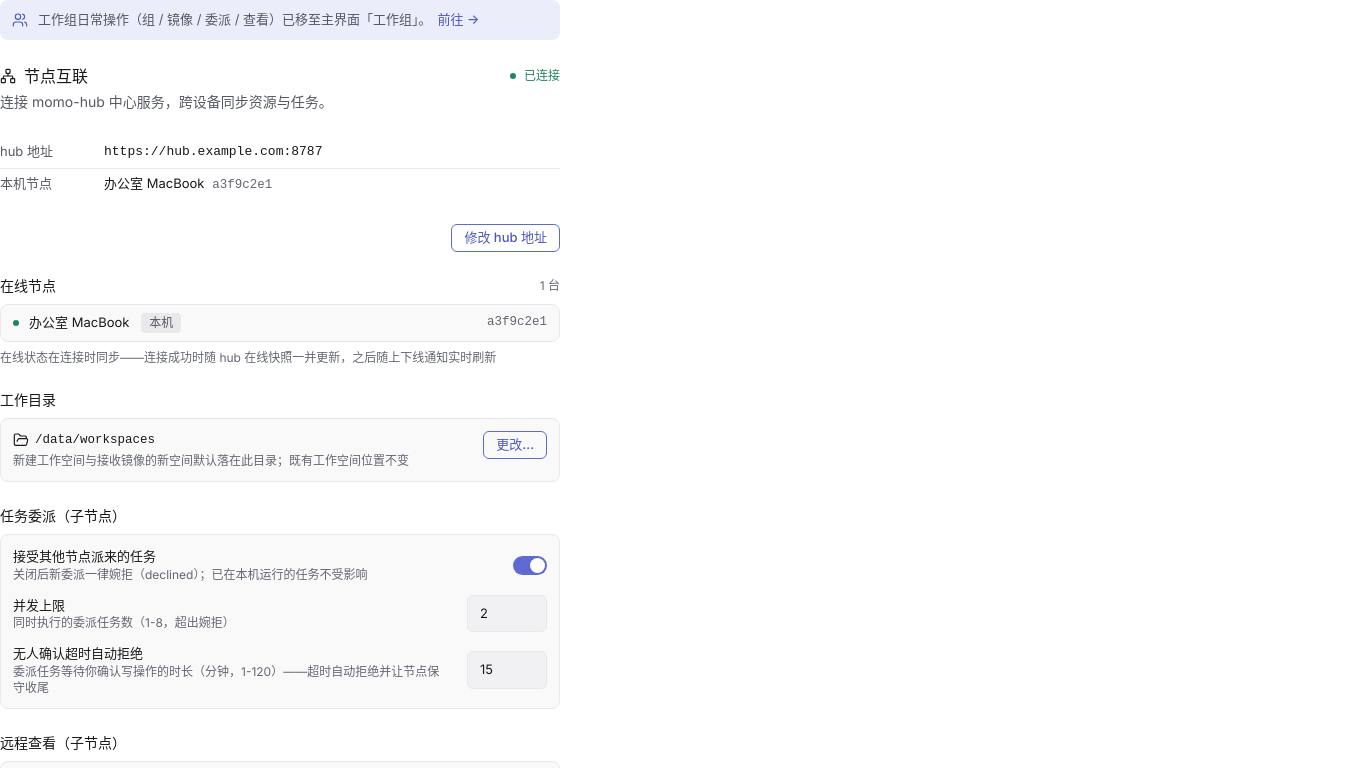
Test: HubSettingsPanel › 已接入态：修改 hub 地址入口 → 确认后调 configure（新地址）→ 落到换址引导态
入口：已接入态身份区的次级按钮
Click the button "修改 hub 地址" at point(506, 238), box [451,224,560,252]
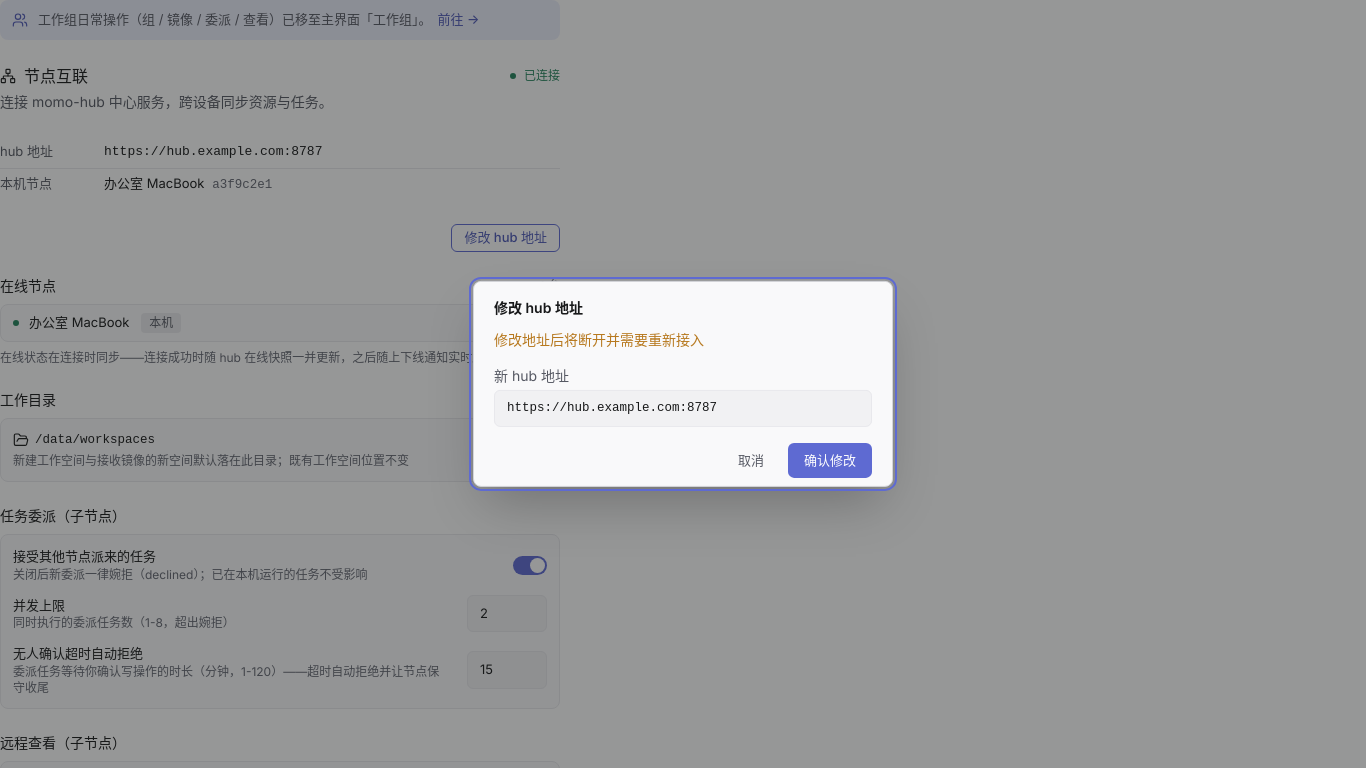
Check: the text "修改地址后将断开并需要重新接入" is shown, box [494,331,704,348]
Check: the field labelled "新 hub 地址" holds "https://hub.example.com:8787"
第二步：改地址 + 确认
Type " https://new.example.com:8787 " into the field labelled "新 hub 地址" at point(683, 408), box [494,390,872,427]
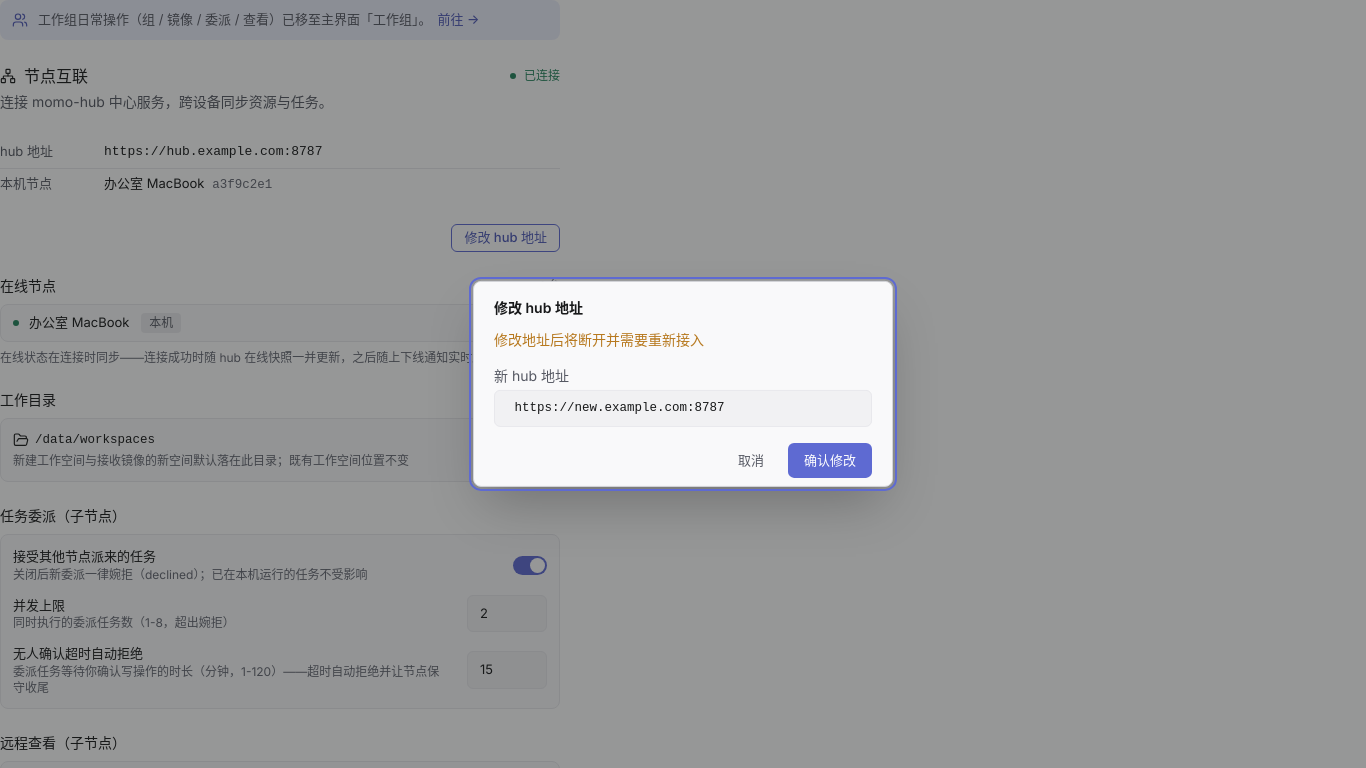
Click the button "确认修改" at point(830, 460), box [788,443,872,478]
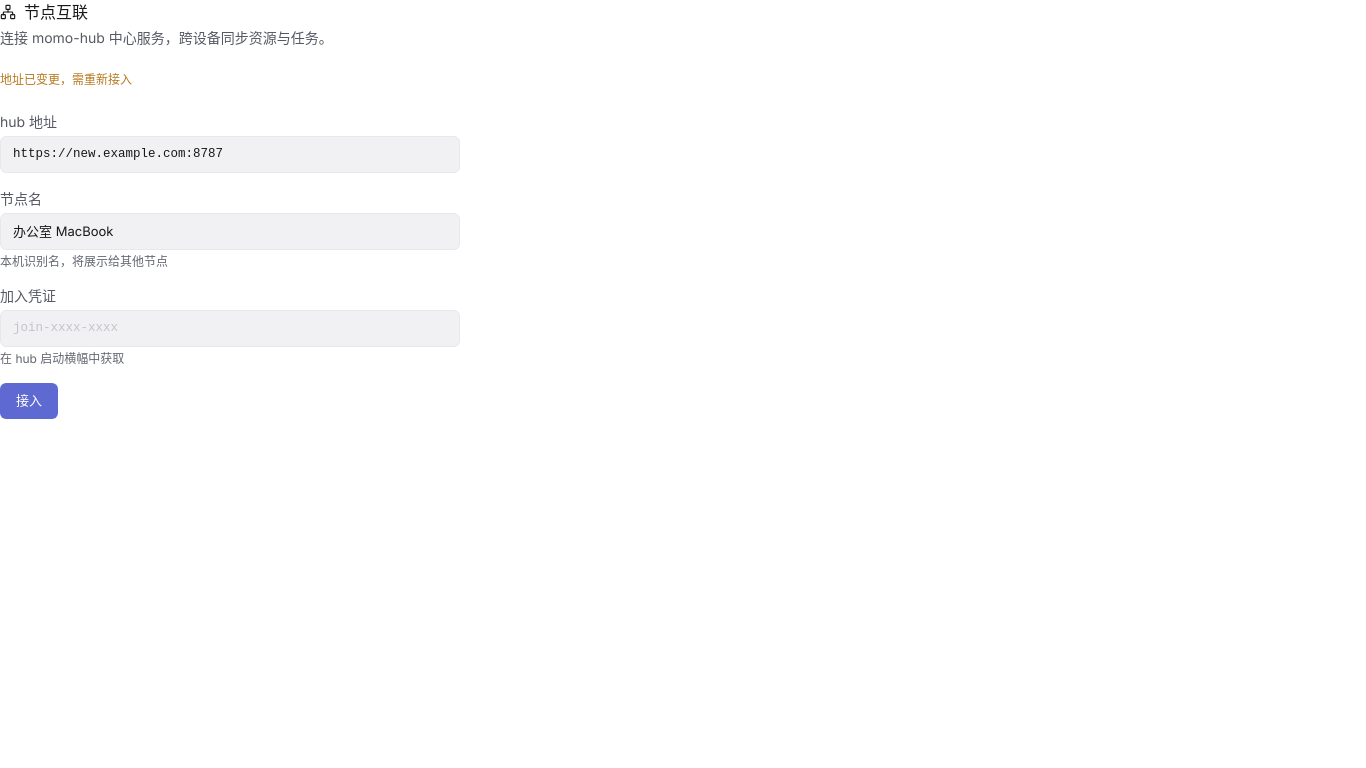
Check: the text "地址已变更，需重新接入" is shown, box [0,72,132,87]
